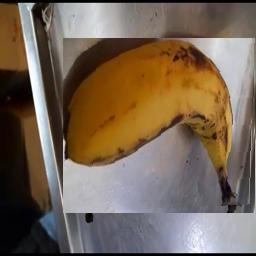Banana Semirotten: (63, 38, 256, 213)
